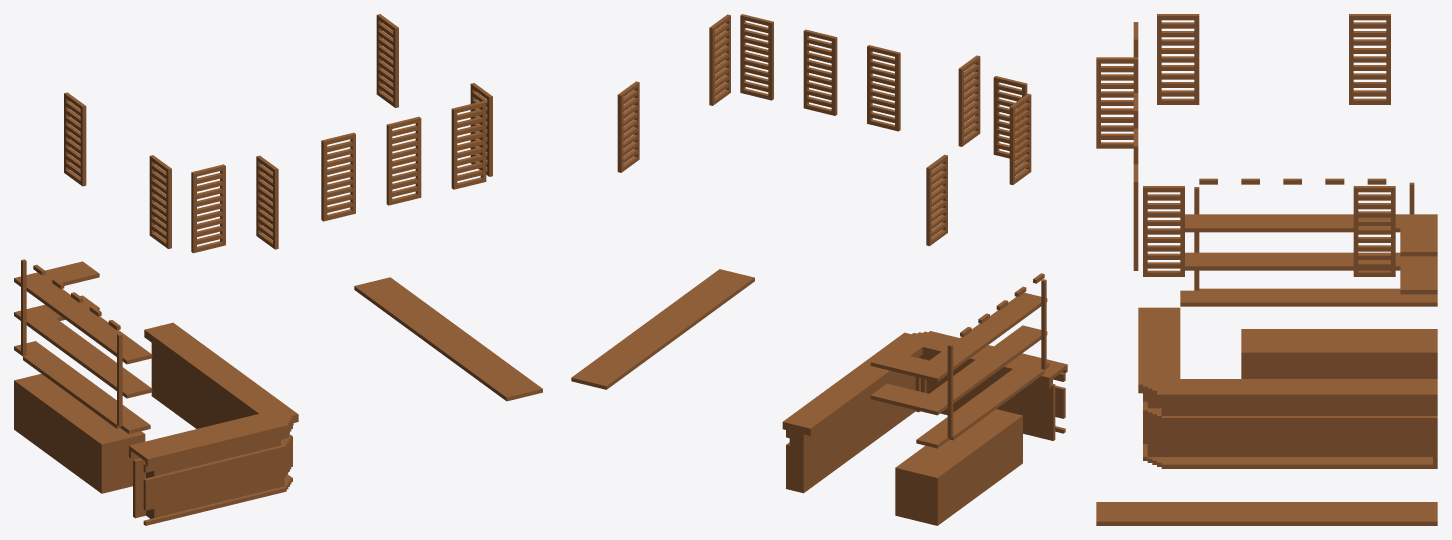
File: windows_and_wood.obj
3 views of the same model, side by side, from view 1: azimuth 30°, elevation 25°; view 2: azimuth 150°, elevation 25°; view 3: azimuth 270°, elevation 25° (orthographic). The views are drawn at different scales.
Visible parts, largest first — view 1: windows_and_wood; view 2: windows_and_wood; view 3: windows_and_wood.
Boxes of the visible parts, x1,y1,x2,y2 form: windows_and_wood: (14, 14, 542, 525); windows_and_wood: (571, 14, 1067, 525); windows_and_wood: (1096, 14, 1437, 525).
Size of the model in its own units: 105 by 91 by 73.
Materials: 1 (1 with a texture image).
